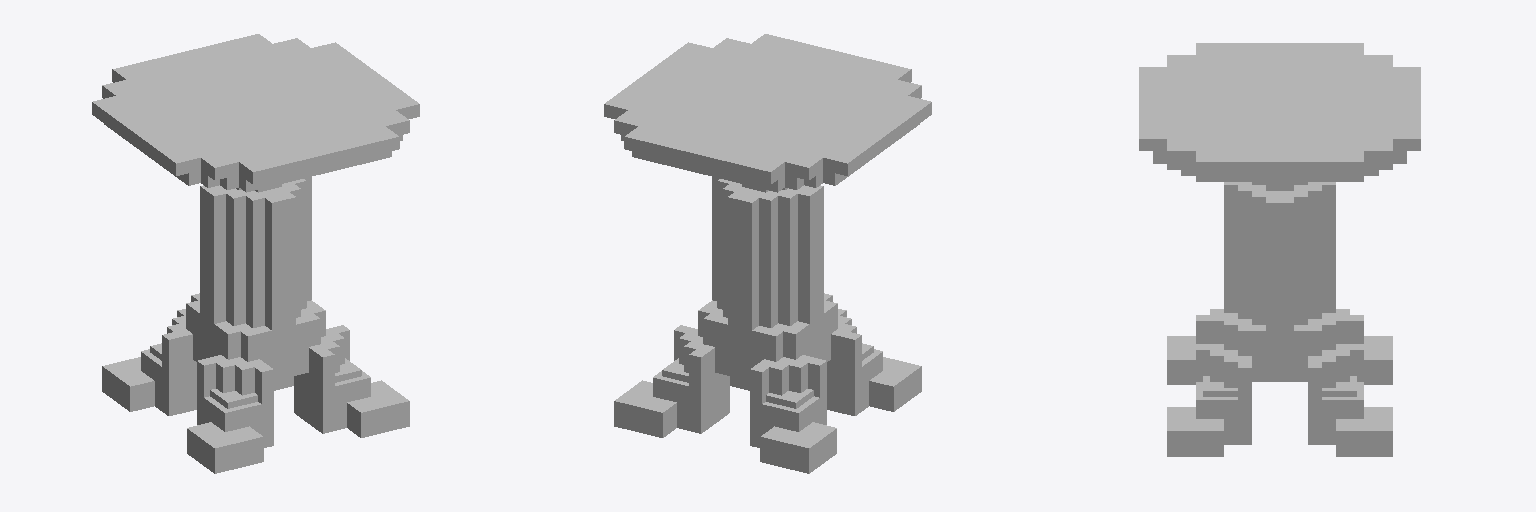
Rendered from stool.obj.
3 views of the same model, side by side, from view 1: azimuth 30°, elevation 25°; view 2: azimuth 150°, elevation 25°; view 3: azimuth 270°, elevation 25° (orthographic).
Visible parts, largest first — view 1: stool; view 2: stool; view 3: stool.
Part boxes in pixels (bbox=[...]): stool: bbox=[92, 34, 419, 473]; stool: bbox=[604, 34, 931, 473]; stool: bbox=[1139, 43, 1420, 456].
Size of the model in its own units: 40 by 48 by 40.